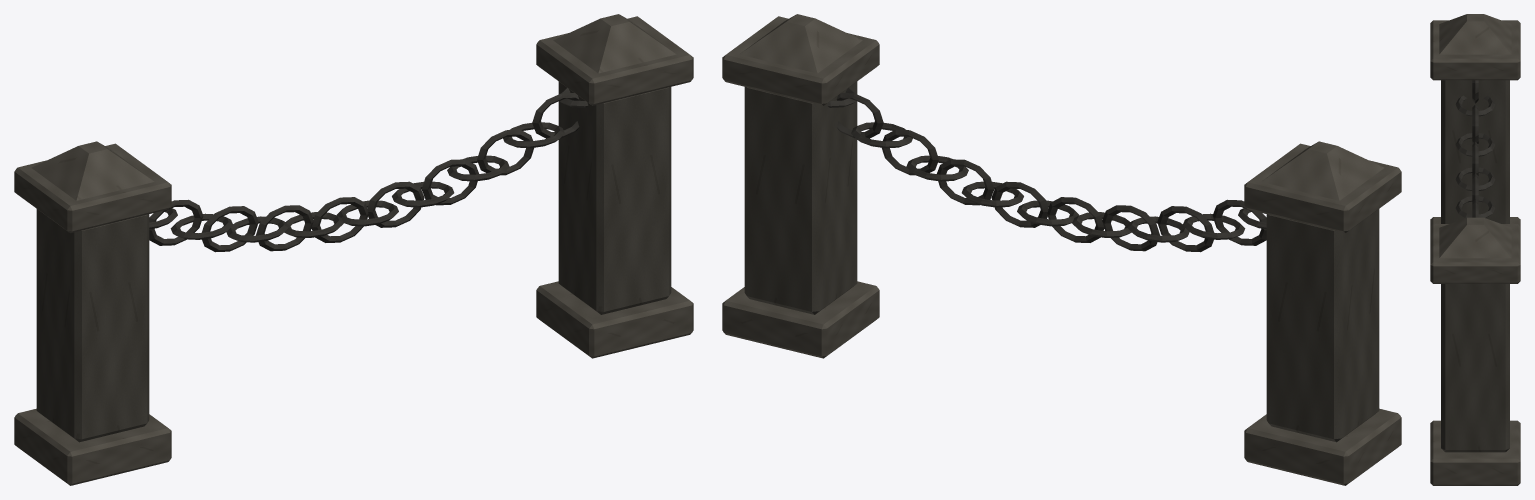
File: env_fence_chain.fbx
The picture shows the model from 3 angles, left to right: view 1: azimuth 30°, elevation 25°; view 2: azimuth 150°, elevation 25°; view 3: azimuth 270°, elevation 25°; orthographic projection. The views are drawn at different scales.
Visible parts, largest first — view 1: env_fence_chain; view 2: env_fence_chain; view 3: env_fence_chain.
Boxes of the visible parts, bbox=[...] form: env_fence_chain: bbox=[14, 14, 693, 485]; env_fence_chain: bbox=[722, 14, 1401, 485]; env_fence_chain: bbox=[1430, 14, 1520, 485].
Bounding box in the file's own units: 192 × 30 × 90.
1 material, 1 textured.
